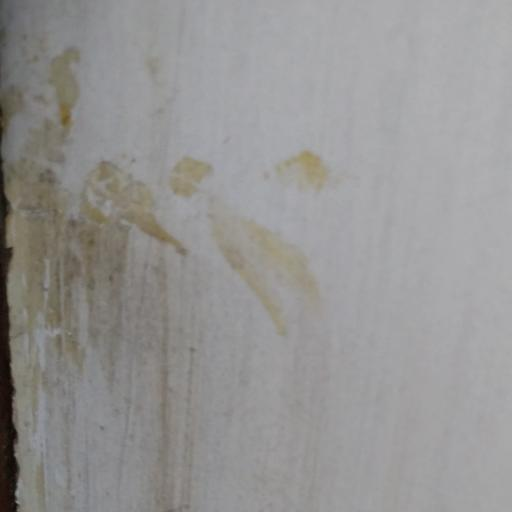stain: (0, 40, 364, 459)
